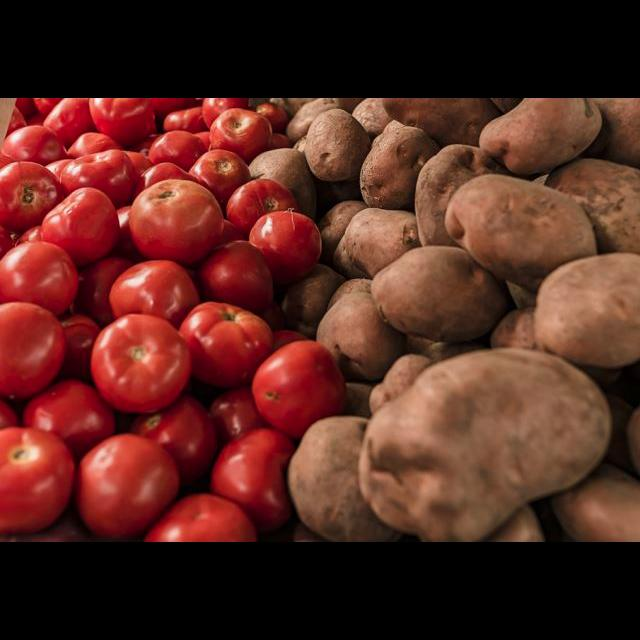potato: (354, 340, 610, 542), (443, 159, 609, 293), (366, 243, 522, 339), (526, 238, 640, 358), (299, 104, 374, 188)
tomato: (65, 417, 183, 542), (83, 300, 197, 417), (245, 325, 352, 435), (122, 169, 228, 267), (180, 291, 273, 396), (0, 418, 76, 537), (36, 177, 124, 267), (0, 294, 68, 401)
